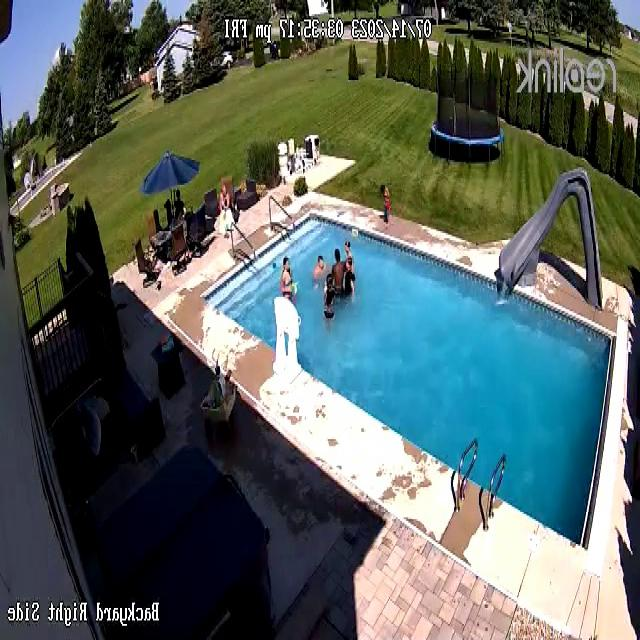adult: (279, 255, 295, 312), (321, 270, 335, 322), (344, 257, 358, 303), (312, 256, 326, 285), (342, 239, 352, 274)
child: (379, 182, 391, 223)
